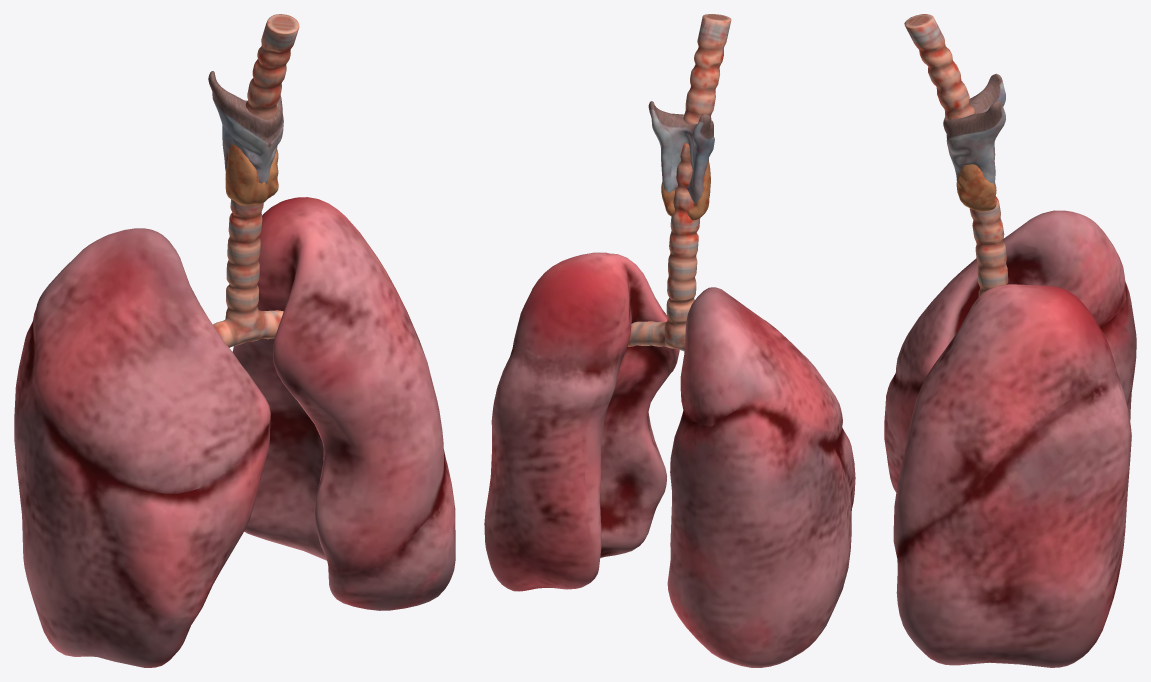
The model's file is PRP_Lungs.glb.
3 views of the same model, side by side, from view 1: azimuth 30°, elevation 25°; view 2: azimuth 150°, elevation 25°; view 3: azimuth 270°, elevation 25° (orthographic). The views are drawn at different scales.
Parts seen in each view (by area): view 1: thairoid01:low_part02_Group6344:Group24638_thairoid01:lungh_, thairoid01:low_part01_Group6344:Group18522_thairoid01:lungh_; view 2: thairoid01:low_part02_Group6344:Group24638_thairoid01:lungh_, thairoid01:low_part01_Group6344:Group18522_thairoid01:lungh_; view 3: thairoid01:low_part02_Group6344:Group24638_thairoid01:lungh_, thairoid01:low_part01_Group6344:Group18522_thairoid01:lungh_.
Boxes of the visible parts, x1,y1,x2,y2 form: thairoid01:low_part02_Group6344:Group24638_thairoid01:lungh_: (14,197,455,667); thairoid01:low_part01_Group6344:Group18522_thairoid01:lungh_: (208,14,299,347); thairoid01:low_part02_Group6344:Group24638_thairoid01:lungh_: (484,252,855,667); thairoid01:low_part01_Group6344:Group18522_thairoid01:lungh_: (627,14,731,351); thairoid01:low_part02_Group6344:Group24638_thairoid01:lungh_: (884,210,1136,667); thairoid01:low_part01_Group6344:Group18522_thairoid01:lungh_: (904,14,1008,296).
Size of the model in its own units: 0.2232 by 0.3686 by 0.1423.
2 materials, 2 textured.
